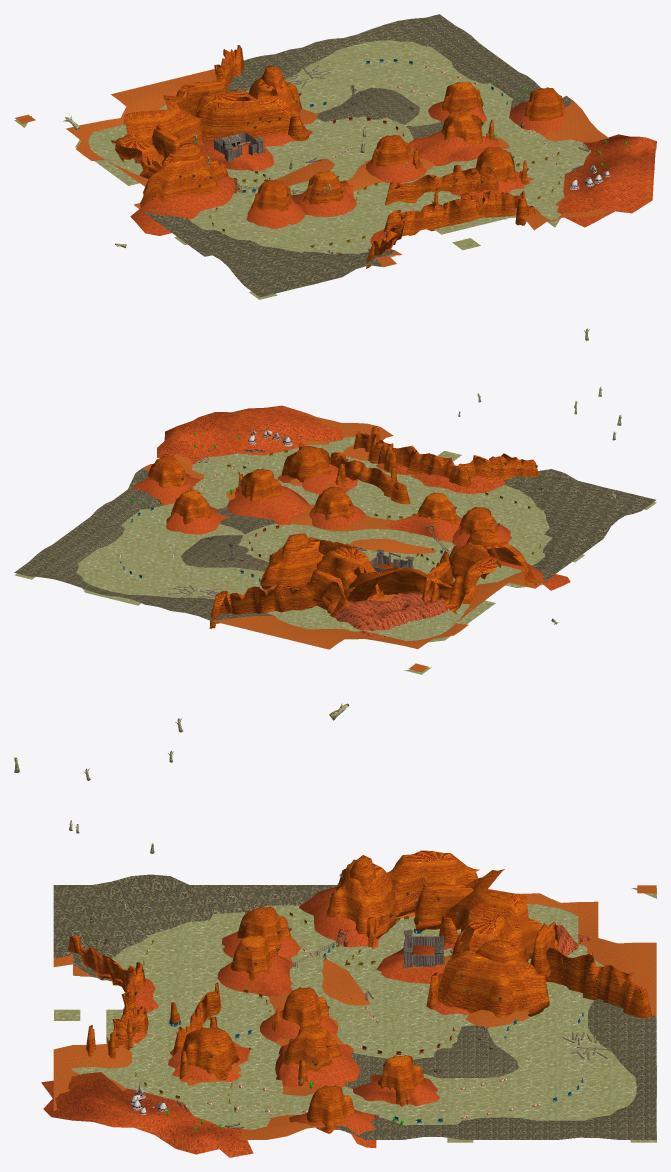
The model's file is Canyon.glb.
The picture shows the model from 3 angles, top to bottom: view 1: azimuth 30°, elevation 25°; view 2: azimuth 150°, elevation 25°; view 3: azimuth 270°, elevation 25°; orthographic projection. The views are drawn at different scales.
Visible parts, largest first — view 1: Untitled*** (×6), FOND* (×3), Untitled* (×3), FOND, PLAGE 1 --------, DEF3.pct*, Untitled**, berge.pct - copy - copy, CAN11.pct - copy - copy (×2), CAN11.pct - copy - copy - copy, DEF3.pct* - copy, PAROI 2 -------- (+17 smaller); view 2: Untitled*** (×7), FOND* (×3), FOND, PLAGE 1 --------, Untitled* (×3), DEF3.pct* - copy, Untitled**, DEF3.pct*, CAN11.pct - copy - copy (×2), TNEL2.pct, PAROI 2 -------- - copy, berge.pct - copy - copy (+16 smaller); view 3: Untitled*** (×7), FOND* (×3), Untitled* (×3), FOND, DEF3.pct* - copy, DEF3.pct*, PLAGE 1 --------, Untitled**, CAN11.pct - copy - copy (×2), berge.pct - copy - copy, PAROI 2 -------- - copy, CANYON 5 (+17 smaller).
Boxes of the visible parts, bbox=[...] form: Untitled*** (×6): bbox=[14, 50, 591, 299]; FOND* (×3): bbox=[142, 14, 573, 297]; Untitled* (×3): bbox=[303, 81, 551, 250]; FOND: bbox=[15, 69, 635, 267]; PLAGE 1 --------: bbox=[557, 134, 656, 227]; DEF3.pct*: bbox=[111, 125, 226, 207]; Untitled**: bbox=[337, 40, 474, 97]; berge.pct - copy - copy: bbox=[130, 176, 356, 235]; CAN11.pct - copy - copy (×2): bbox=[124, 95, 347, 204]; CAN11.pct - copy - copy - copy: bbox=[196, 95, 291, 142]; DEF3.pct* - copy: bbox=[176, 65, 302, 119]; PAROI 2 --------: bbox=[385, 168, 498, 205]; Untitled*** (×7): bbox=[121, 436, 656, 674]; FOND* (×3): bbox=[14, 468, 655, 620]; FOND: bbox=[143, 412, 541, 672]; PLAGE 1 --------: bbox=[157, 405, 343, 464]; Untitled* (×3): bbox=[121, 444, 461, 562]; DEF3.pct* - copy: bbox=[260, 533, 375, 613]; Untitled**: bbox=[14, 532, 188, 601]; DEF3.pct*: bbox=[421, 529, 537, 613]; CAN11.pct - copy - copy (×2): bbox=[330, 492, 458, 617]; TNEL2.pct: bbox=[330, 592, 447, 637]; PAROI 2 -------- - copy: bbox=[209, 581, 319, 628]; berge.pct - copy - copy: bbox=[385, 513, 570, 590]; Untitled*** (×7): bbox=[71, 888, 656, 1130]; FOND* (×3): bbox=[53, 874, 656, 1139]; Untitled* (×3): bbox=[54, 1009, 473, 1142]; FOND: bbox=[53, 885, 656, 1139]; DEF3.pct* - copy: bbox=[437, 914, 558, 1018]; DEF3.pct*: bbox=[326, 850, 479, 939]; PLAGE 1 --------: bbox=[41, 1072, 253, 1157]; Untitled**: bbox=[473, 1076, 656, 1142]; CAN11.pct - copy - copy (×2): bbox=[231, 869, 560, 981]; berge.pct - copy - copy: bbox=[217, 887, 380, 996]; PAROI 2 -------- - copy: bbox=[546, 947, 652, 1018]; CANYON 5: bbox=[182, 1027, 239, 1080].
Bounding box in the file's own units: 438 × 143 × 373.
Materials: 25 (24 with a texture image).
